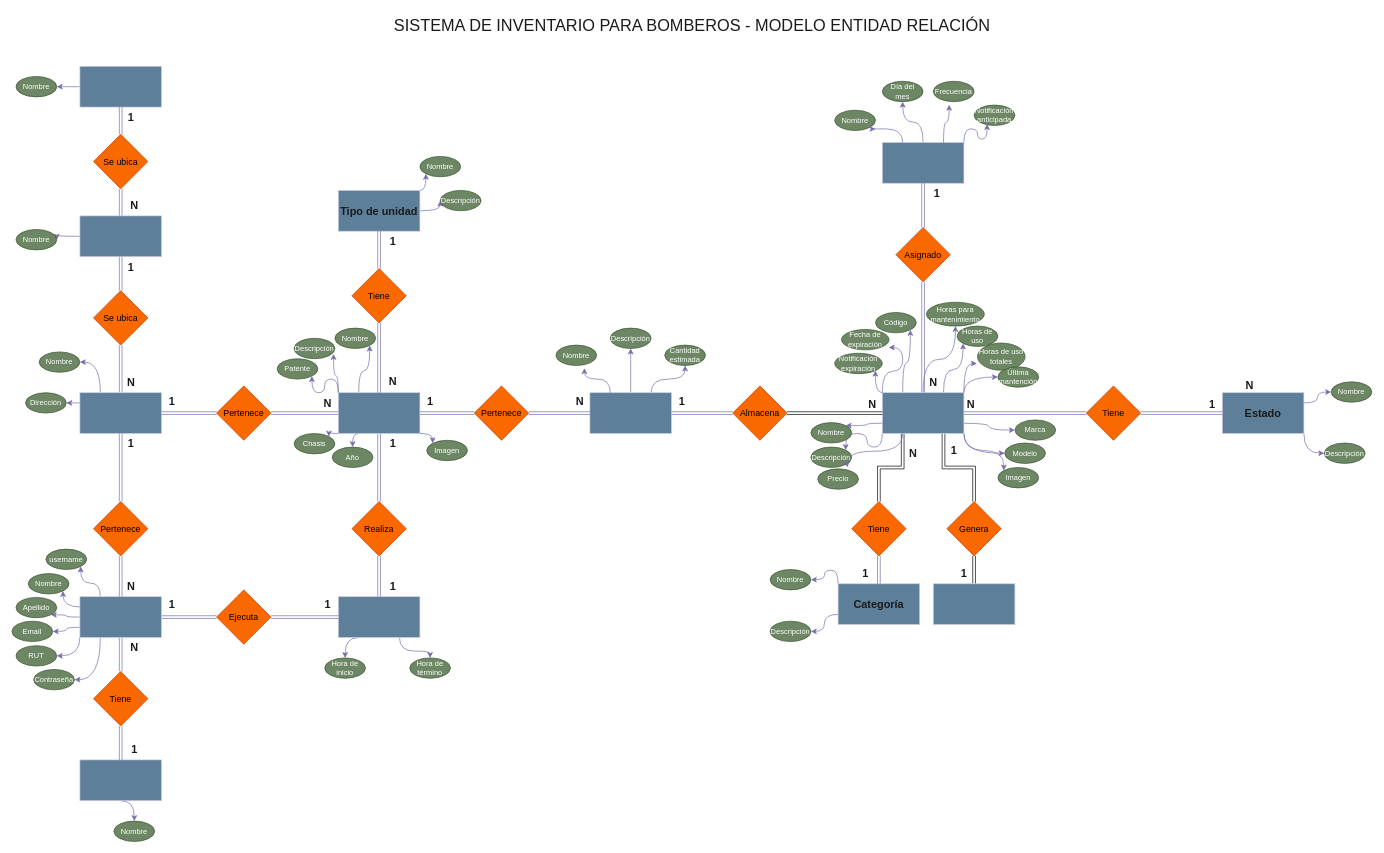
Image size: 1384x853. Some labels were removed from this diagram. Each missing label, with the box of its shape:
Comuna: (79, 215, 162, 257)
Estación de bomberos: (79, 392, 162, 434)
Gabeta: (589, 392, 672, 434)
Inventario: (882, 392, 964, 434)
Operación / emergencia: (338, 596, 420, 638)
Programa de mantenimiento: (882, 142, 964, 183)
Préstamos de insumos: (933, 583, 1015, 625)
Región: (79, 66, 162, 107)
Rol de usuario: (79, 759, 162, 801)
Unidad bomberil: (338, 392, 420, 434)
Usuario: (79, 596, 162, 638)
